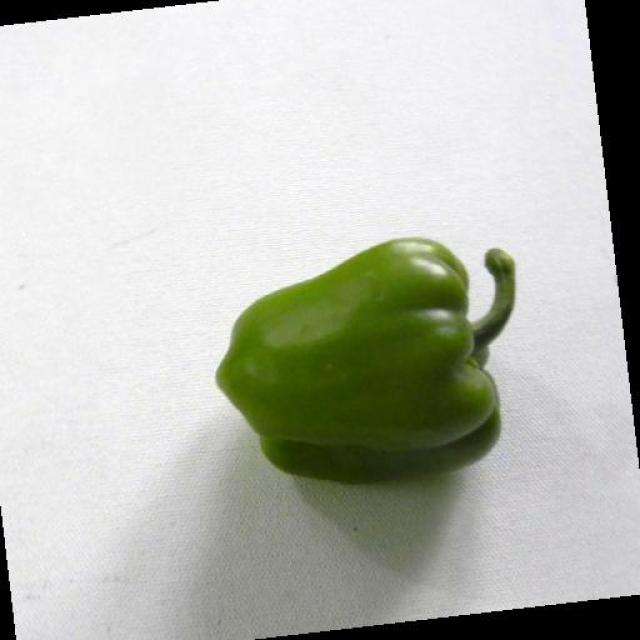Fresh_Capsicum: (189, 256, 562, 463)
